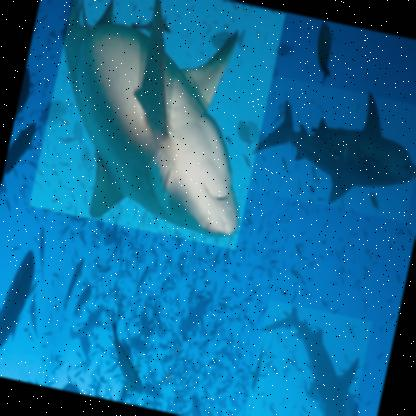bulldog-shark: (28, 0, 287, 250), (242, 72, 415, 223), (241, 298, 375, 415)
